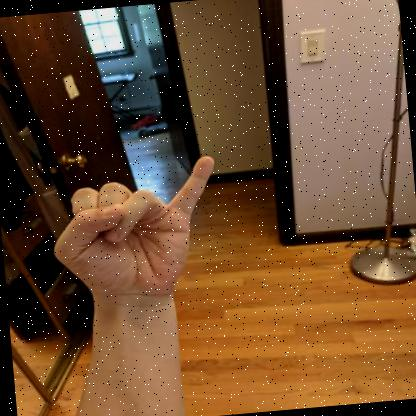I: (54, 156, 214, 303)
